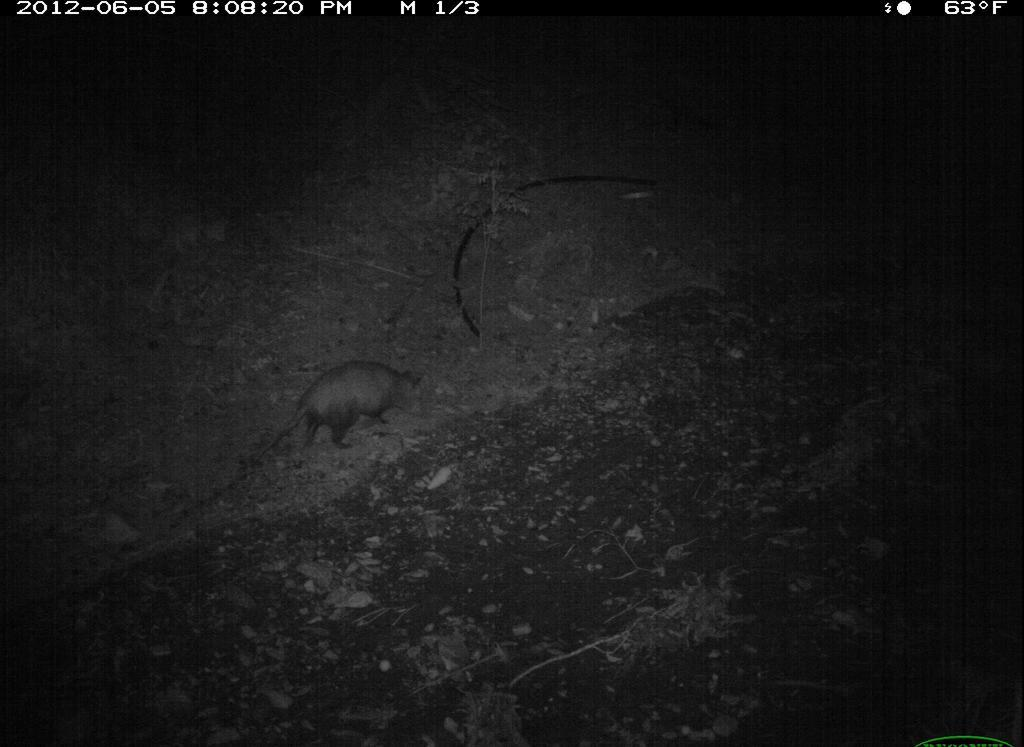opossum: (251, 358, 442, 473)
